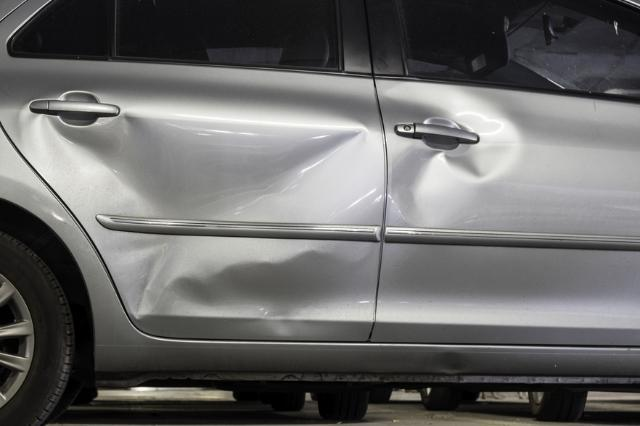Door: (45, 72, 373, 334), (422, 100, 580, 188)
